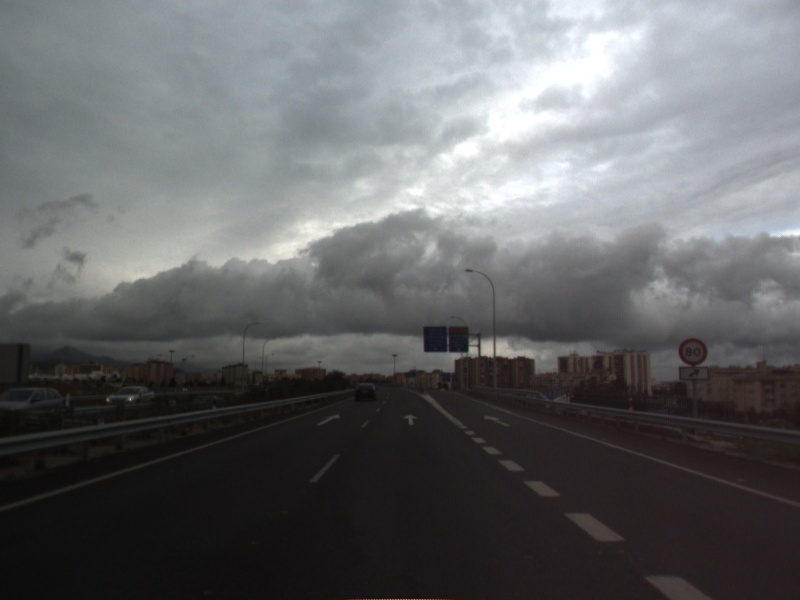STRAIGHT: (481, 412, 513, 429), (313, 412, 343, 428), (401, 412, 421, 427)
